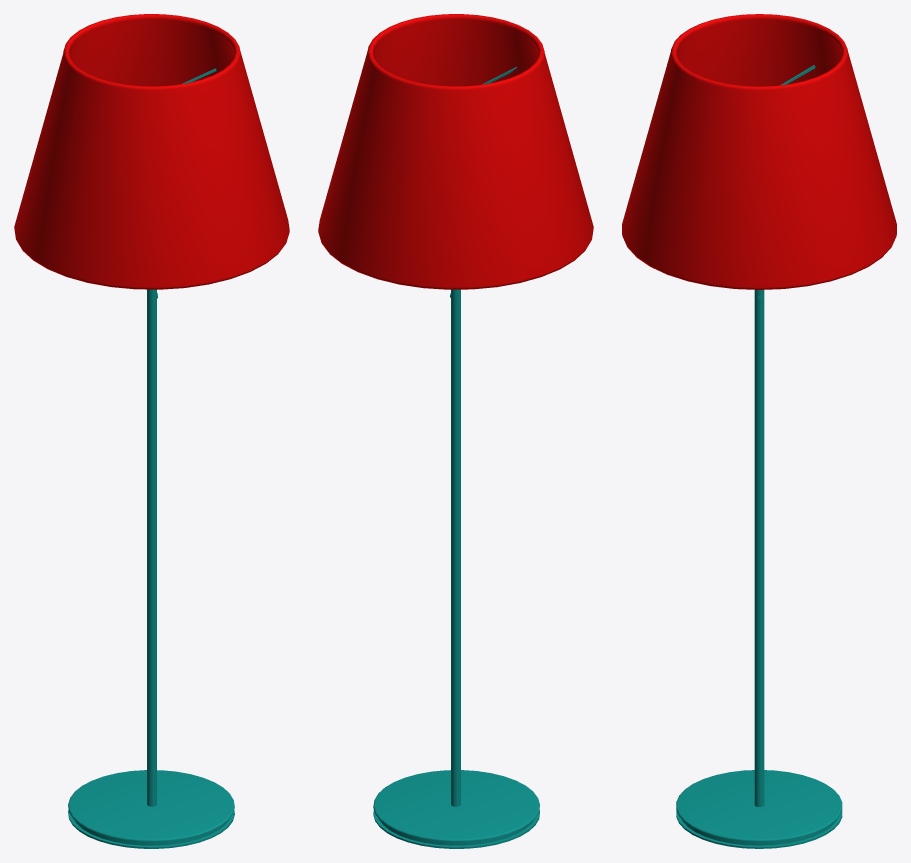
The model's file is LivingRoomLamp2.fbx.
3 renders of one model, left to right at view 1: azimuth 30°, elevation 25°; view 2: azimuth 150°, elevation 25°; view 3: azimuth 270°, elevation 25°, orthographic.
Visible parts, largest first — view 1: Object005; view 2: Object005; view 3: Object005.
Boxes of the visible parts, x1,y1,x2,y2 form: Object005: [14, 14, 289, 848]; Object005: [318, 14, 593, 848]; Object005: [622, 14, 896, 848].
Size of the model in its own units: 24.19 by 73.83 by 24.08.
